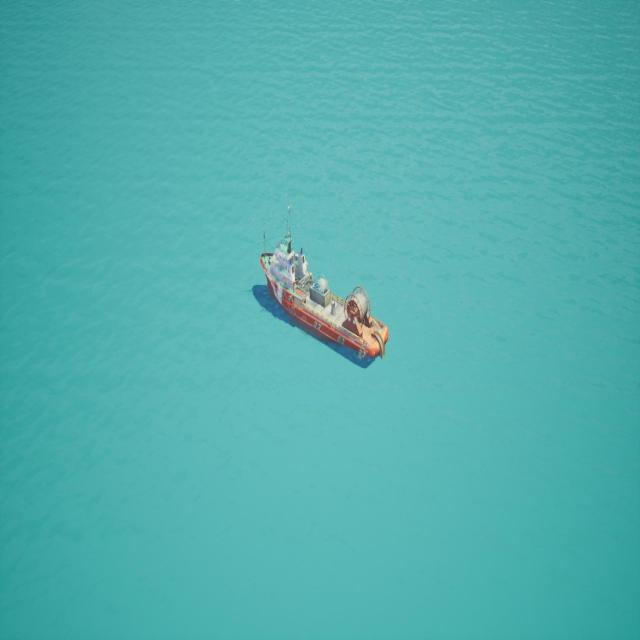tug boat: (239, 180, 394, 427)
